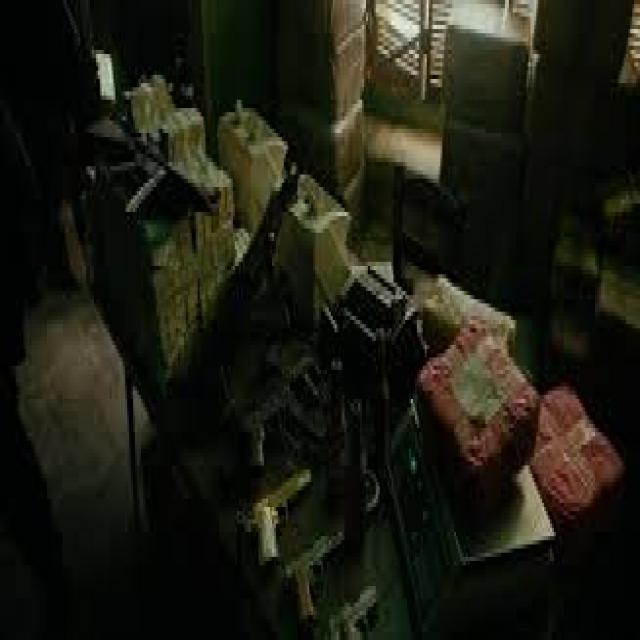weapon: (205, 166, 298, 419), (81, 99, 214, 244), (244, 455, 316, 571), (282, 518, 344, 622)
